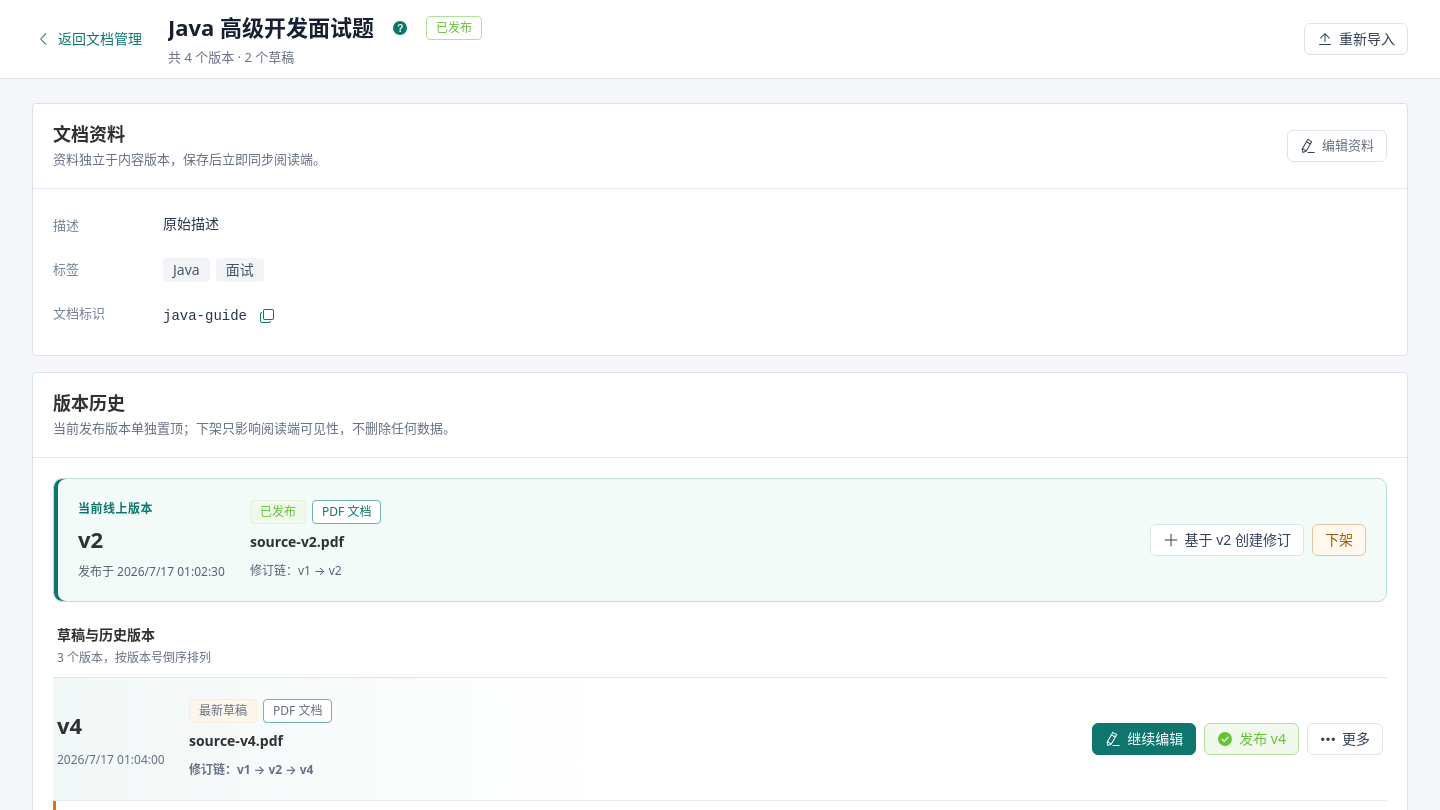
Test: AdminDocumentDetailView › updates document metadata independently from content versions
The image size is (1440, 810).
Expected: the element with class "document-metadata-card" shows "原始描述", x1=163 y1=214 x2=219 y2=233
Expected: the element with class "readonly-identifier" reads "java-guide", x1=163 y1=308 x2=247 y2=324
Click the button with test id "edit-document-metadata": (1337, 146) x1=1287 y1=130 x2=1387 y2=162
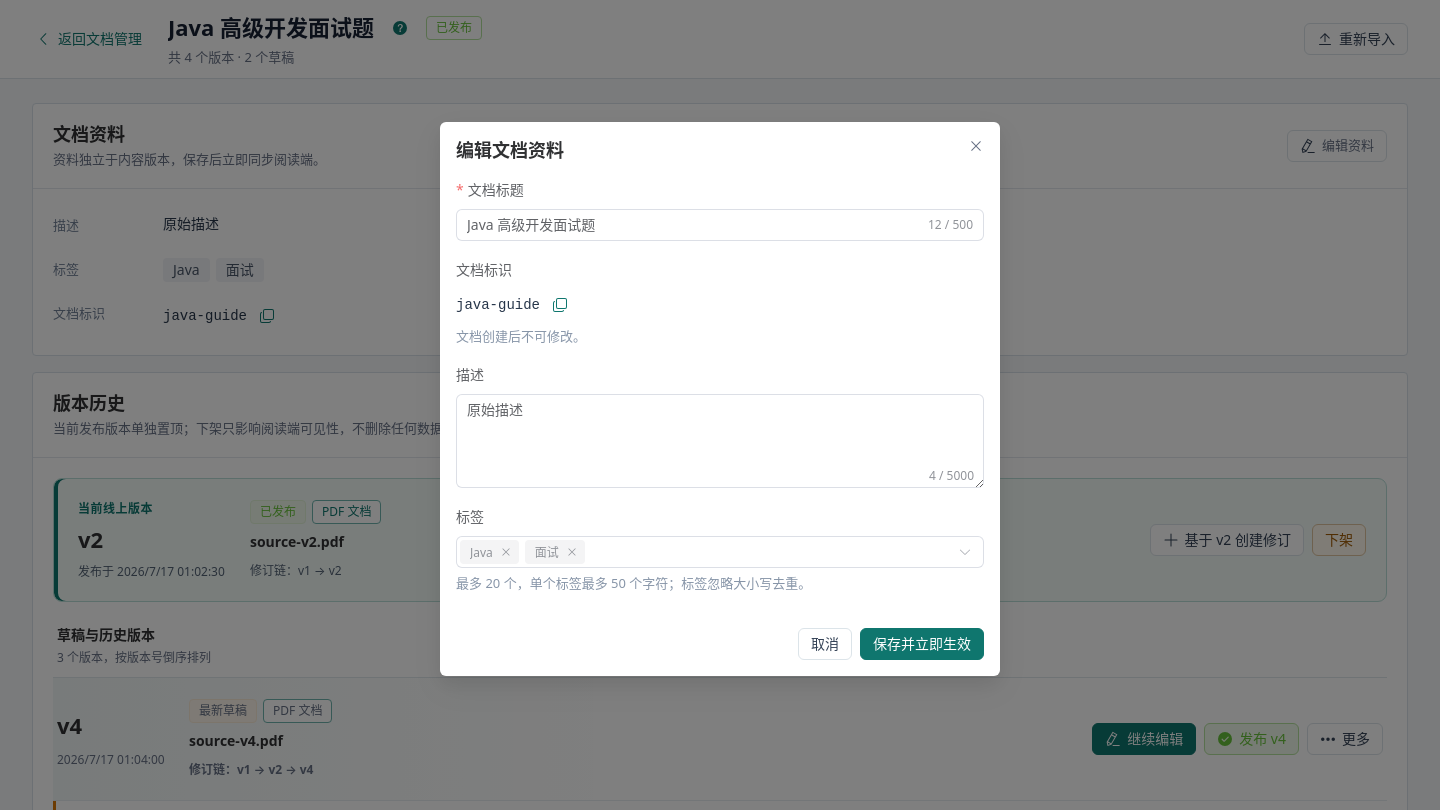
Expected: the button with test id "save-document-metadata" reads "保存并立即生效"
Expected: the text "取消" is shown, x1=811 y1=637 x2=839 y2=651
Click the button with test id "save-document-metadata": (922, 644) x1=860 y1=628 x2=984 y2=660
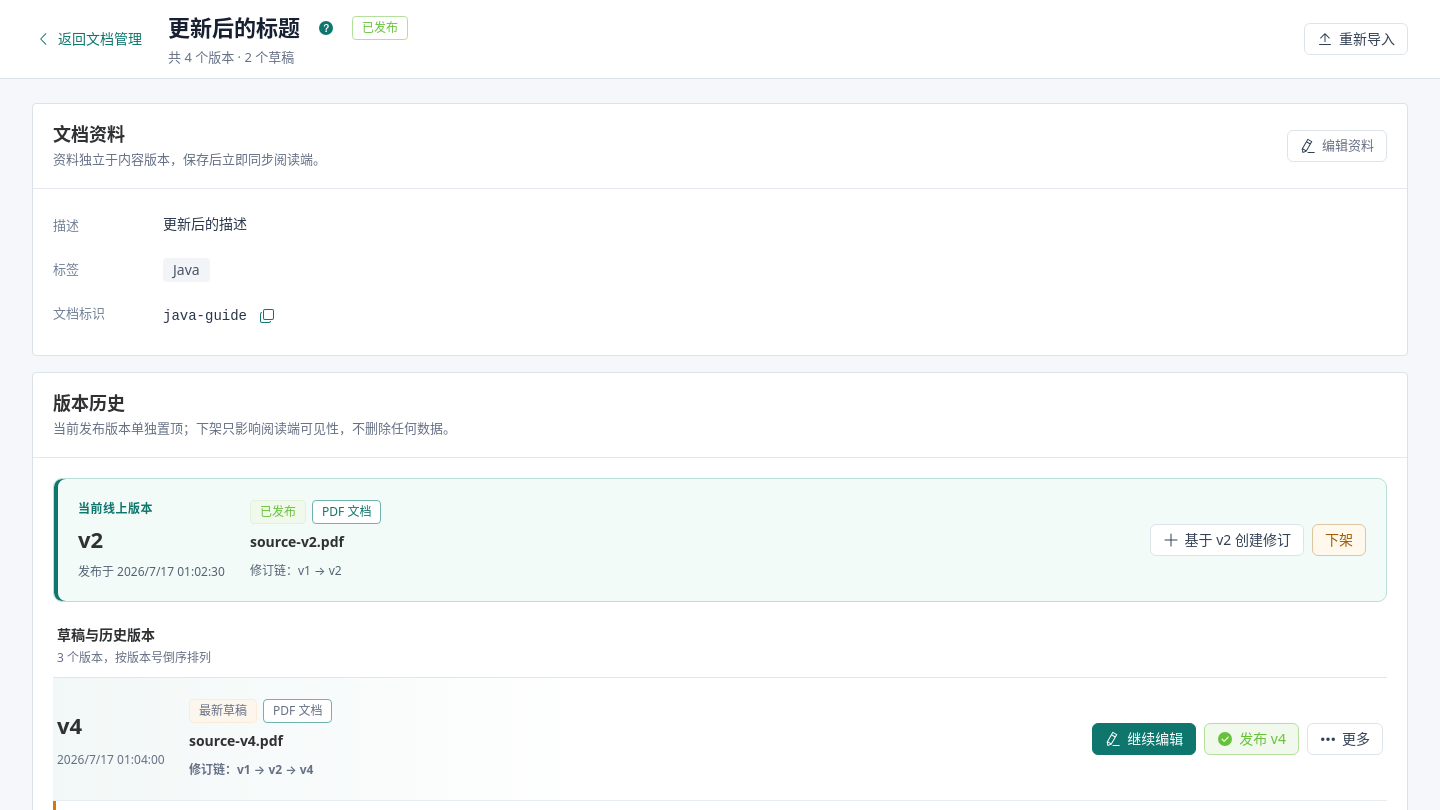
Expected: the heading "更新后的标题" is shown, x1=168 y1=14 x2=300 y2=42
